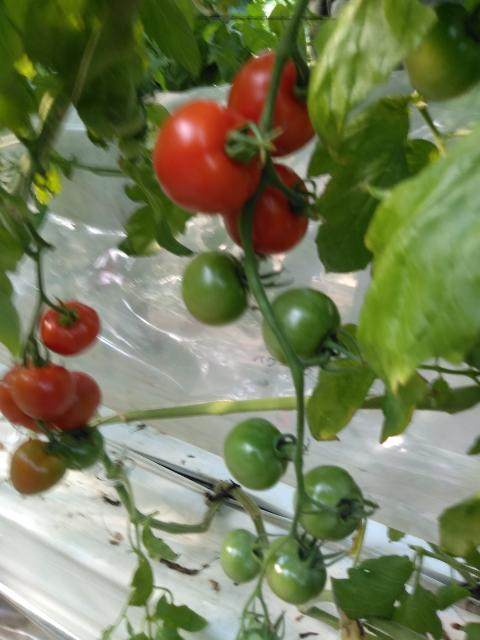l_fully_ripened: (152, 99, 266, 215), (226, 51, 315, 159), (220, 161, 309, 256), (10, 366, 76, 422), (40, 301, 100, 356), (47, 371, 101, 429)
l_green: (402, 1, 480, 103), (263, 287, 340, 368), (293, 465, 363, 543), (181, 251, 249, 326), (224, 417, 290, 490), (264, 533, 327, 604), (220, 528, 263, 585), (52, 424, 104, 470)
l_half_ripened: (9, 440, 66, 495)
